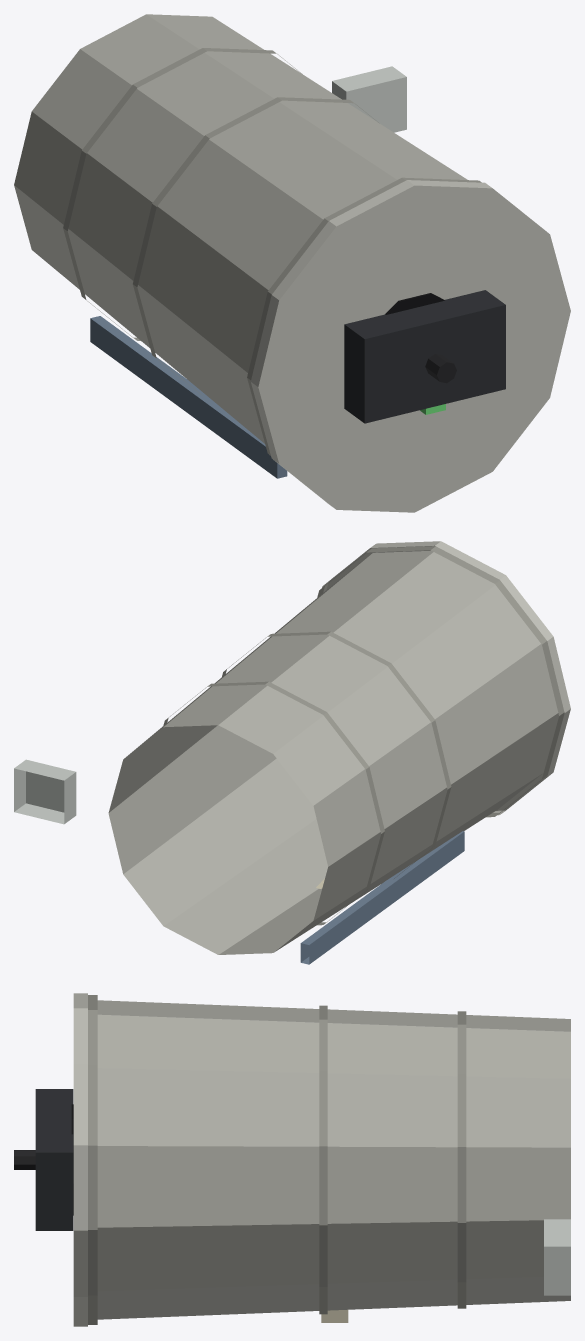
The model's file is a_rdwc_control.obj.
3 views of the same model, one above another, from view 1: azimuth 30°, elevation 25°; view 2: azimuth 150°, elevation 25°; view 3: azimuth 270°, elevation 25° (orthographic). The views are drawn at different scales.
Size of the model in its own units: 0.7985 by 0.6205 by 1.03.
Materials: 1 (1 with a texture image).
